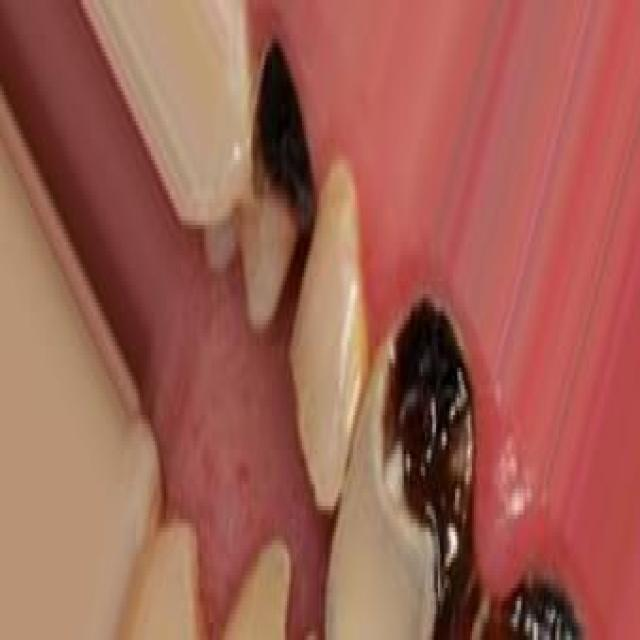caries: (377, 262, 481, 640), (253, 26, 313, 292), (480, 541, 577, 640)
